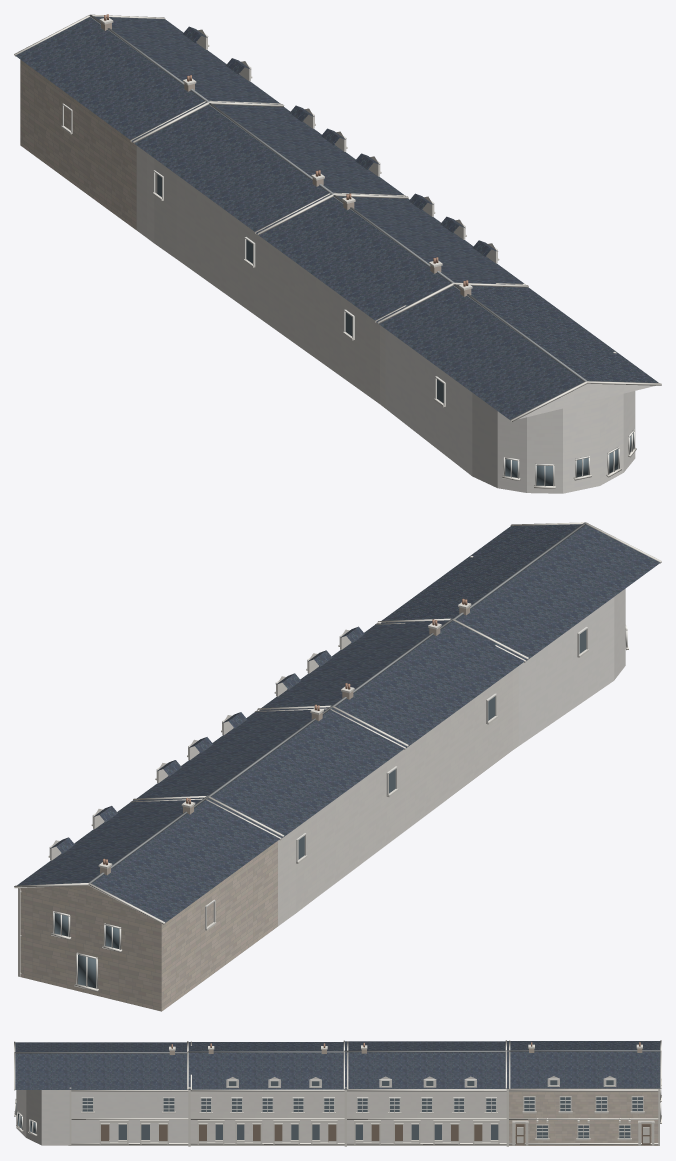
File: bridge_street_terrace.glb
The picture shows the model from 3 angles, top to bottom: view 1: azimuth 30°, elevation 25°; view 2: azimuth 150°, elevation 25°; view 3: azimuth 270°, elevation 25°; orthographic projection. The views are drawn at different scales.
Parts seen in each view (by area): view 1: roof | Blue-grey slate | Rectory texture, outer_wall | Painted rubble with margins | Rectory stone tex, outer_wall | Pale painted ashlar | Rectory texture, outer_wall | Weathered rubble stone | Rectory texture, raised_skew | Pale painted stone margins, roof_detail | Slate ridge and skew shadows, dormer_roof | Blue-grey slate | Rectory texture, party_gable | Pale painted ashlar | Rectory texture, glazing | Dark shop and sash glazing, dormer | Painted rubble with margins | Rectory stone texture, window_frame | Painted timber frames; view 2: roof | Blue-grey slate | Rectory texture, outer_wall | Weathered rubble stone | Rectory texture, outer_wall | Painted rubble with margins | Rectory stone tex, outer_wall | Pale painted ashlar | Rectory texture, raised_skew | Pale painted stone margins, roof_detail | Slate ridge and skew shadows, dormer_roof | Blue-grey slate | Rectory texture, party_gable | Weathered rubble stone | Rectory texture, glazing | Dark shop and sash glazing, dormer | Painted rubble with margins | Rectory stone texture, rear_frame | Painted timber frames; view 3: roof | Blue-grey slate | Rectory texture, outer_wall | Painted rubble with margins | Rectory stone tex, outer_wall | Pale painted ashlar | Rectory texture, outer_wall | Weathered rubble stone | Rectory texture, string_course | Pale painted stone margins, glazing | Dark shop and sash glazing, window_frame | Painted timber frames, shopfront | Traditional shopfront painted timber, shop_door | Dark stained timber, roof_detail | Slate ridge and skew shadows, shop_glazing | Dark shop and sash glazing, shopfront | Pale painted stone margins (+12 smaller).
Part boxes in pixels (<box>): roof | Blue-grey slate | Rectory texture: <box>15,16,658,420</box>; outer_wall | Painted rubble with margins | Rectory stone tex: <box>136,145,385,407</box>; outer_wall | Pale painted ashlar | Rectory texture: <box>385,329,635,493</box>; outer_wall | Weathered rubble stone | Rectory texture: <box>20,59,136,229</box>; raised_skew | Pale painted stone margins: <box>14,14,661,421</box>; roof_detail | Slate ridge and skew shadows: <box>89,14,587,381</box>; dormer_roof | Blue-grey slate | Rectory texture: <box>183,26,497,256</box>; party_gable | Pale painted ashlar | Rectory texture: <box>518,383,655,419</box>; glazing | Dark shop and sash glazing: <box>505,433,633,485</box>; dormer | Painted rubble with margins | Rectory stone texture: <box>196,30,497,263</box>; window_frame | Painted timber frames: <box>503,429,634,486</box>; roof | Blue-grey slate | Rectory texture: <box>17,524,660,922</box>; outer_wall | Weathered rubble stone | Rectory texture: <box>20,841,277,1011</box>; outer_wall | Painted rubble with margins | Rectory stone tex: <box>278,666,518,926</box>; outer_wall | Pale painted ashlar | Rectory texture: <box>518,588,625,745</box>; raised_skew | Pale painted stone margins: <box>14,522,661,924</box>; roof_detail | Slate ridge and skew shadows: <box>88,522,586,883</box>; dormer_roof | Blue-grey slate | Rectory texture: <box>50,626,364,853</box>; party_gable | Weathered rubble stone | Rectory texture: <box>20,885,157,921</box>; glazing | Dark shop and sash glazing: <box>54,913,119,988</box>; dormer | Painted rubble with margins | Rectory stone texture: <box>50,630,351,860</box>; rear_frame | Painted timber frames: <box>205,627,588,928</box>; roof | Blue-grey slate | Rectory texture: <box>15,1041,660,1089</box>; outer_wall | Painted rubble with margins | Rectory stone tex: <box>190,1089,506,1145</box>; outer_wall | Pale painted ashlar | Rectory texture: <box>16,1090,188,1145</box>; outer_wall | Weathered rubble stone | Rectory texture: <box>509,1088,658,1145</box>; string_course | Pale painted stone margins: <box>71,1089,658,1144</box>; glazing | Dark shop and sash glazing: <box>16,1097,642,1138</box>; window_frame | Painted timber frames: <box>15,1089,661,1134</box>; shopfront | Traditional shopfront painted timber: <box>99,1120,499,1143</box>; shop_door | Dark stained timber: <box>101,1124,482,1141</box>; roof_detail | Slate ridge and skew shadows: <box>14,1050,660,1053</box>; shop_glazing | Dark shop and sash glazing: <box>118,1124,498,1139</box>; shopfront | Pale painted stone margins: <box>99,1123,499,1144</box>.
Size of the model in its own units: 10.58 by 8.25 by 60.11.
12 materials, 4 textured.
